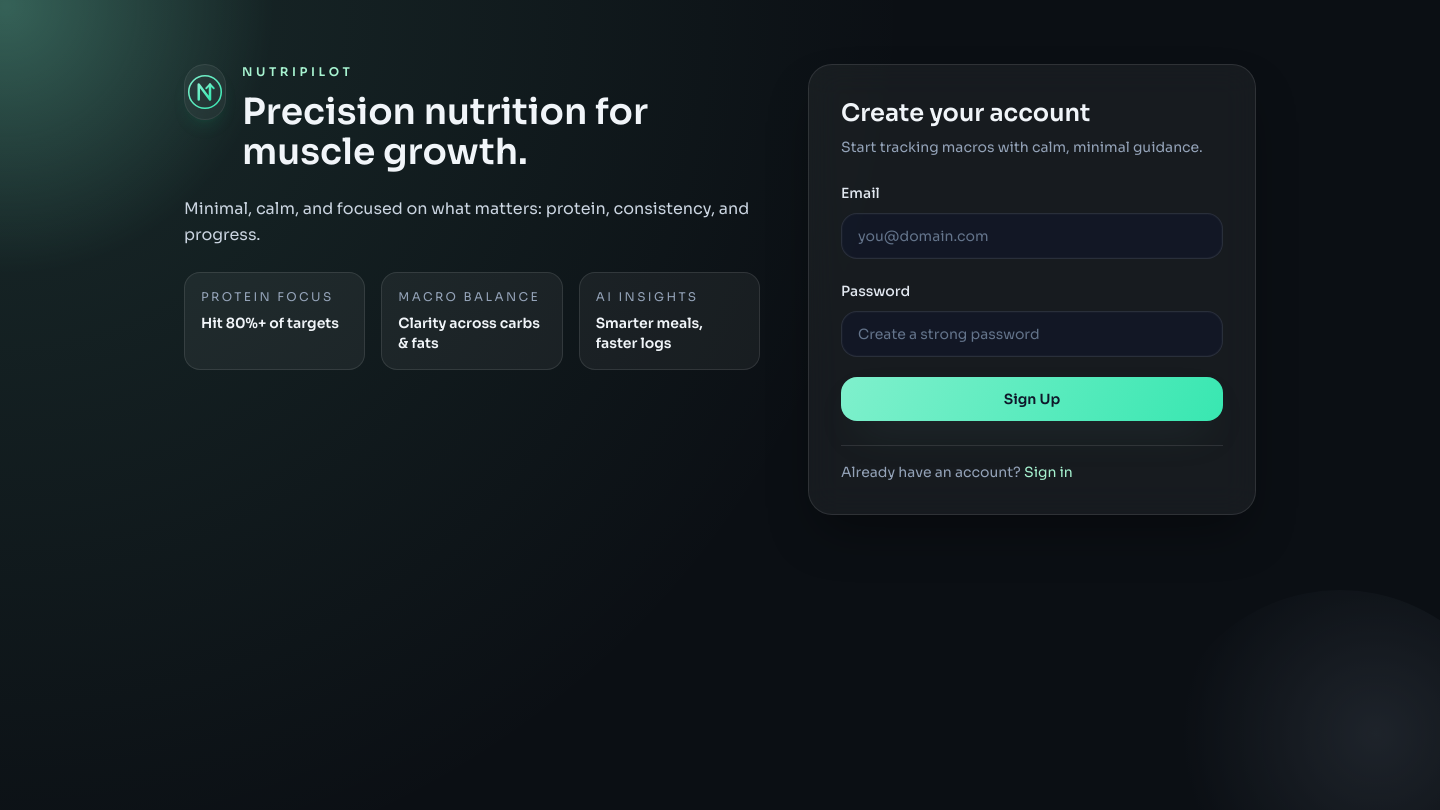
Test: RegisterForm › shows validation error for invalid email
Step 1. Type "invalid-email" into the field labelled "Email" → (1032, 236), box [841,213,1223,259]
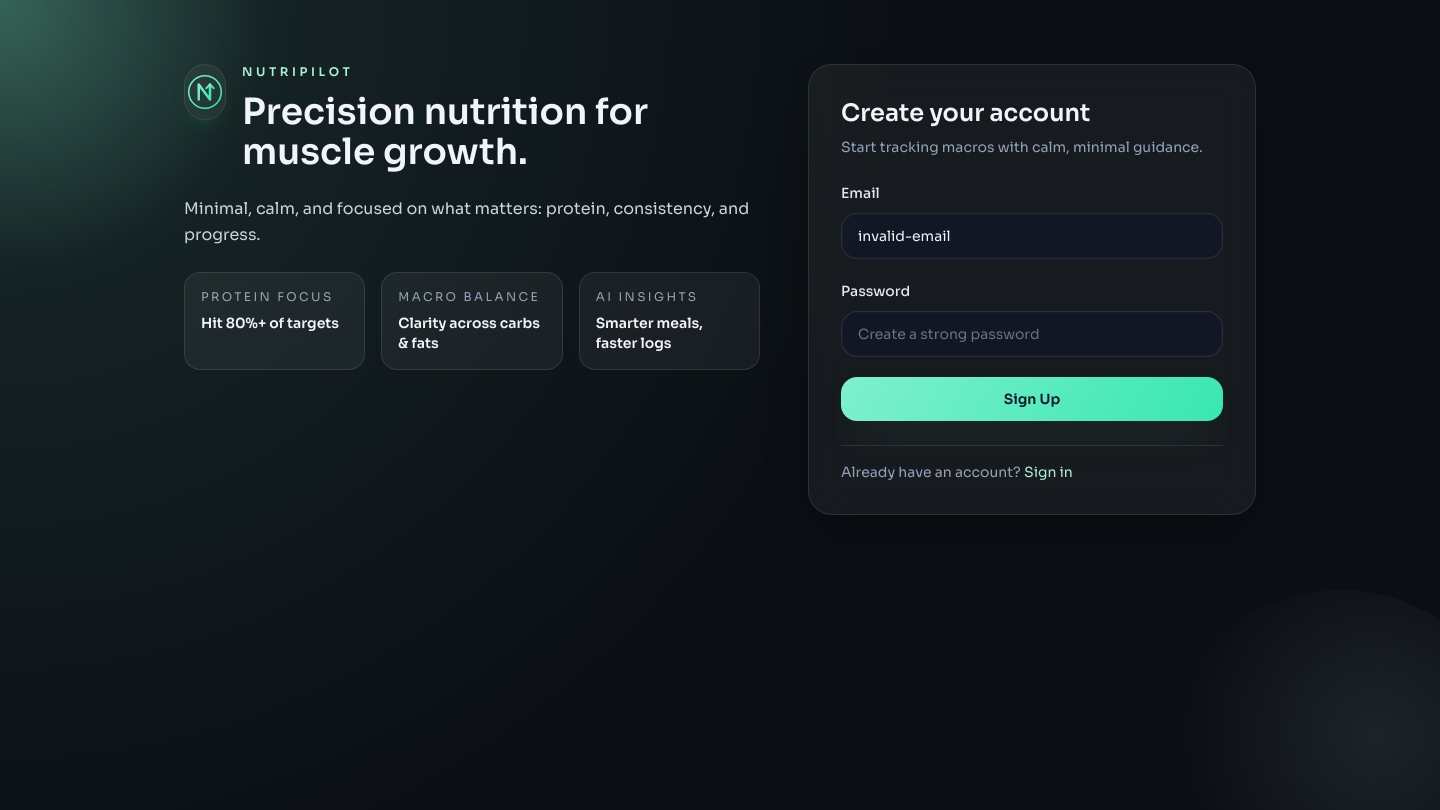
Step 2. Type "StrongPass1" into the password field labelled "Password" → (1032, 334), box [841,311,1223,357]
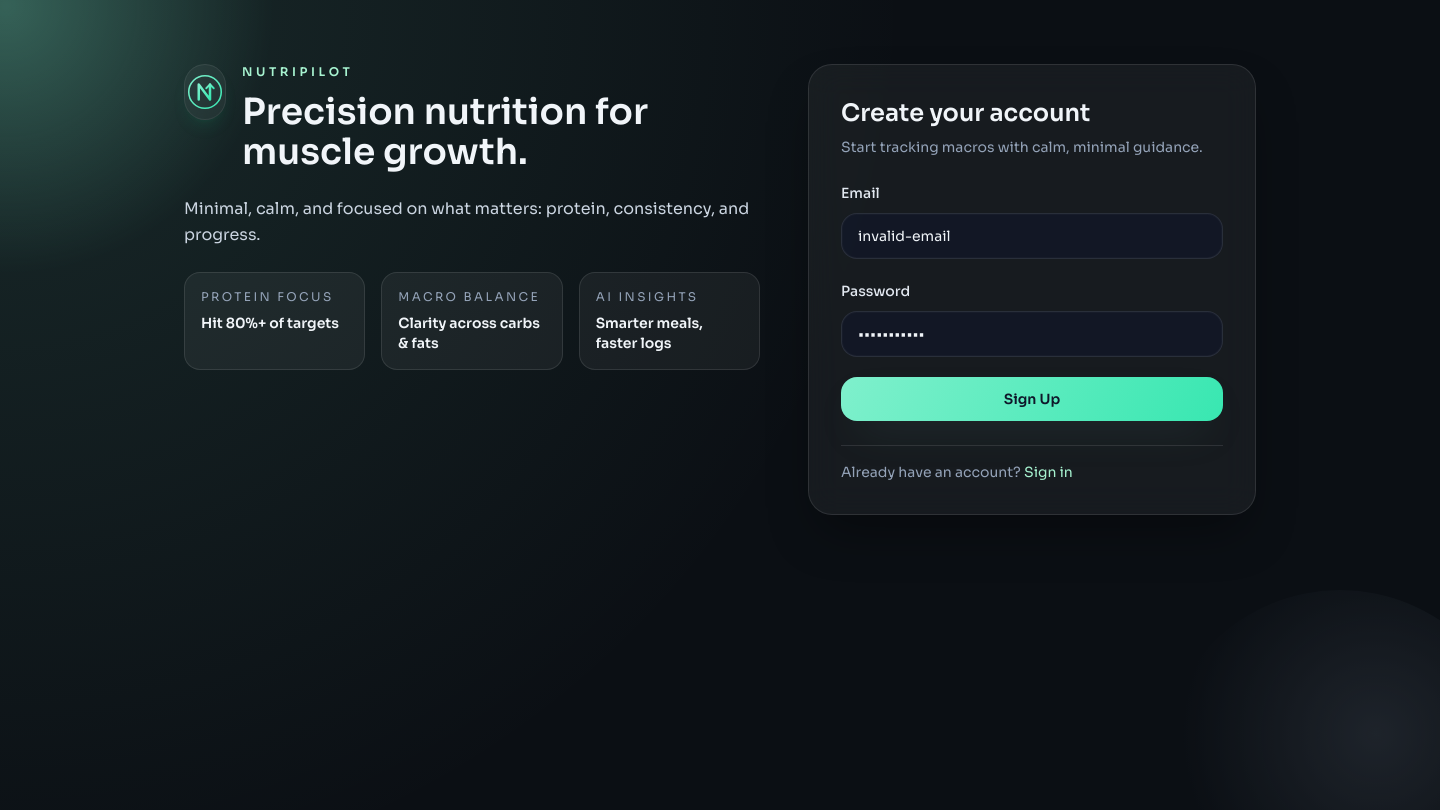
Step 3. Click the button "Sign Up" → click(1032, 399), box [841,377,1223,421]
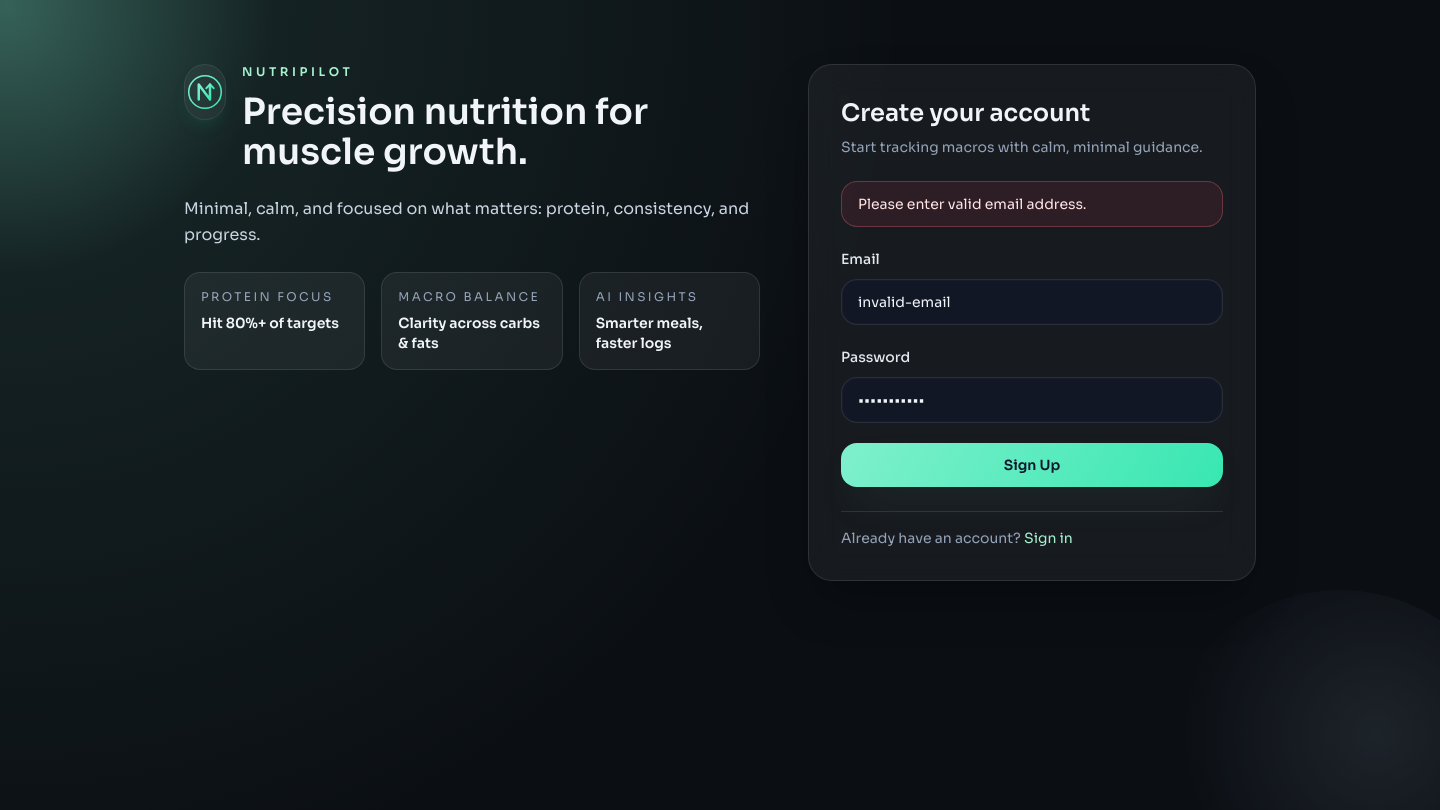
Check: the text "Please enter valid email address." is shown, box [841,181,1223,227]
